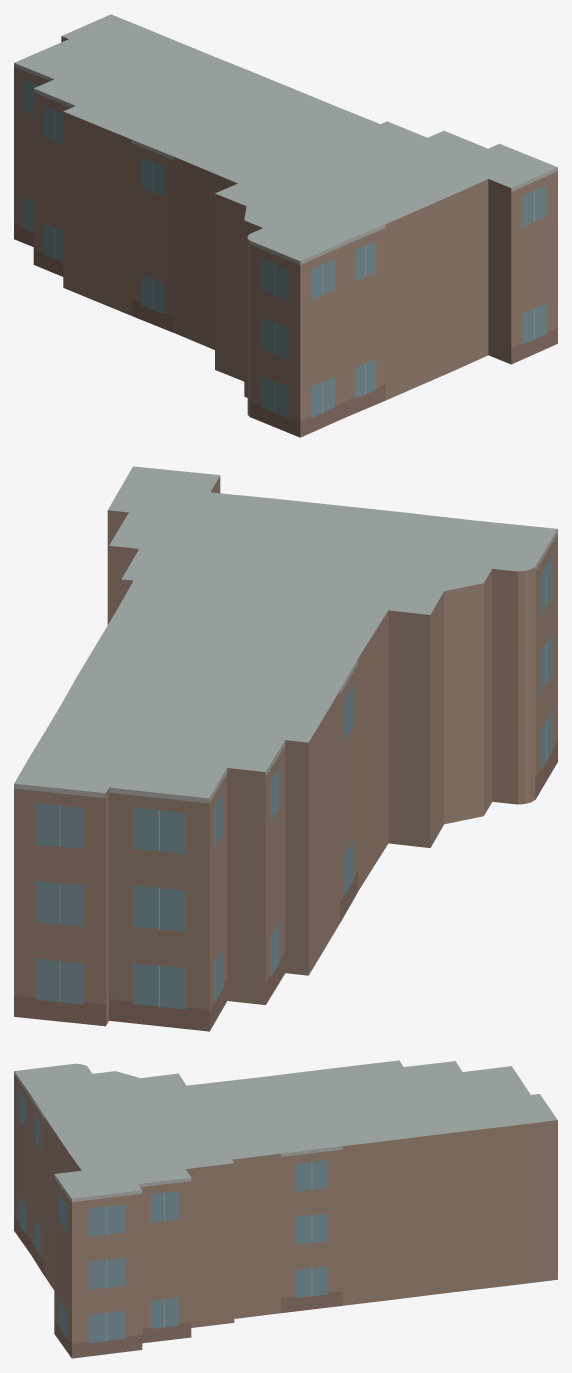
File: survey-upis-33039160.glb
3 renders of one model, top to bottom at view 1: azimuth 30°, elevation 25°; view 2: azimuth 150°, elevation 25°; view 3: azimuth 270°, elevation 25°, orthographic. The views are drawn at different scales.
Visible parts, largest first — view 1: survey-upis-33039160.tmp; view 2: survey-upis-33039160.tmp; view 3: survey-upis-33039160.tmp.
Boxes of the visible parts, bbox=[...] form: survey-upis-33039160.tmp: bbox=[14, 14, 557, 437]; survey-upis-33039160.tmp: bbox=[14, 466, 557, 1031]; survey-upis-33039160.tmp: bbox=[14, 1060, 557, 1358].
Bounding box in the file's own units: 21.23 × 11.4 × 35.21.
